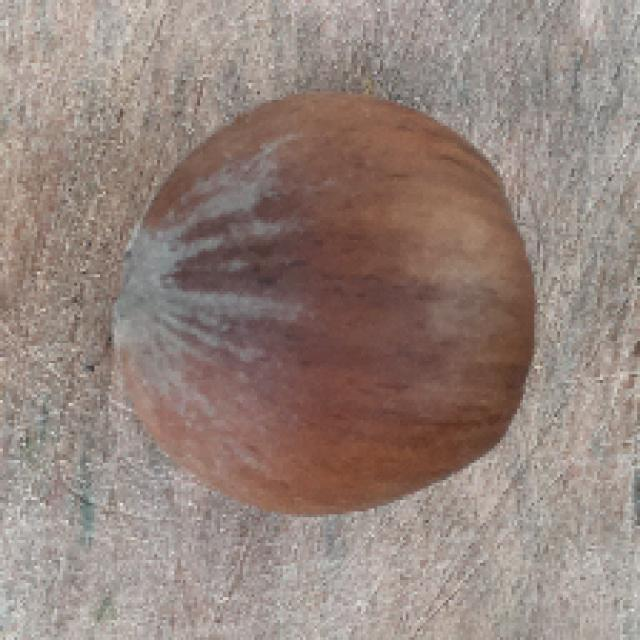DamagedHazelnut: (108, 93, 537, 519)
